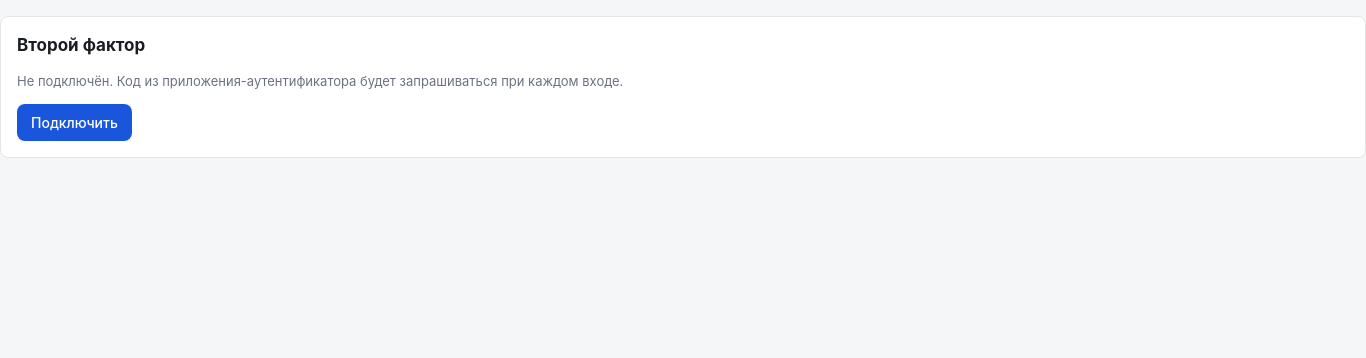
Scenario: MfaSettings › к ошибке сервера прилагается идентификатор запроса
This screenshot has width=1366, height=358.
Click the button "Подключить".
click(74, 122)  # box [17,104,132,141]
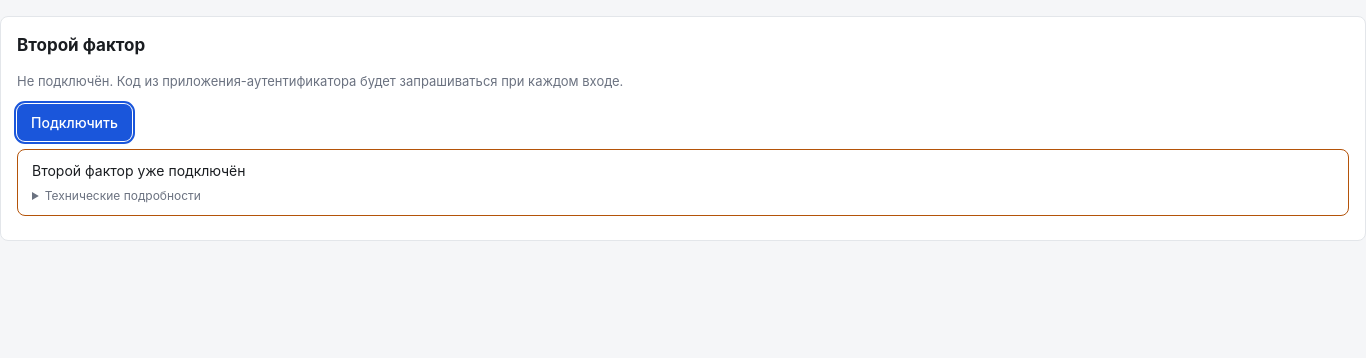
Click the heading "Технические подробности".
click(123, 196)  # box [45,188,201,203]
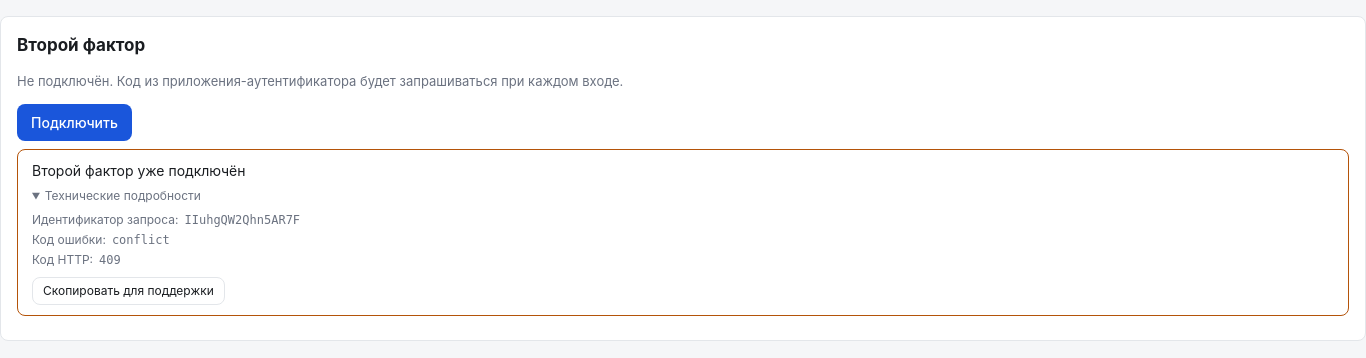
Now the text "IIuhgQW2Qhn5AR7F" is shown, box [184,211,300,229]
